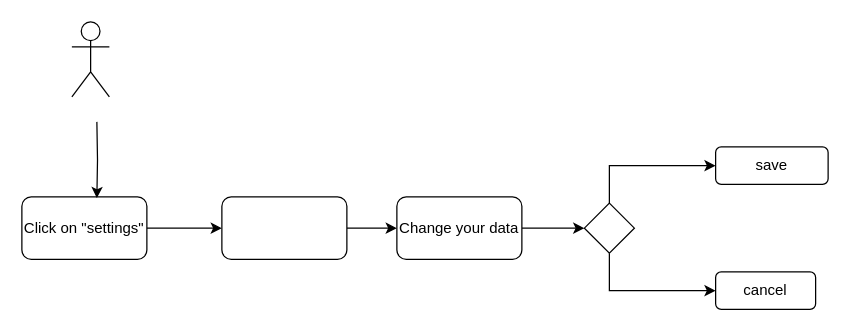
This 850x331 diagram has some shape labels left out. The shapes that lost their labels are listed below. From the top down, each one's centre as x and y in pixels, then its label:
At (90,59): "Registered User".
At (284,227): "click on edit my profile".
